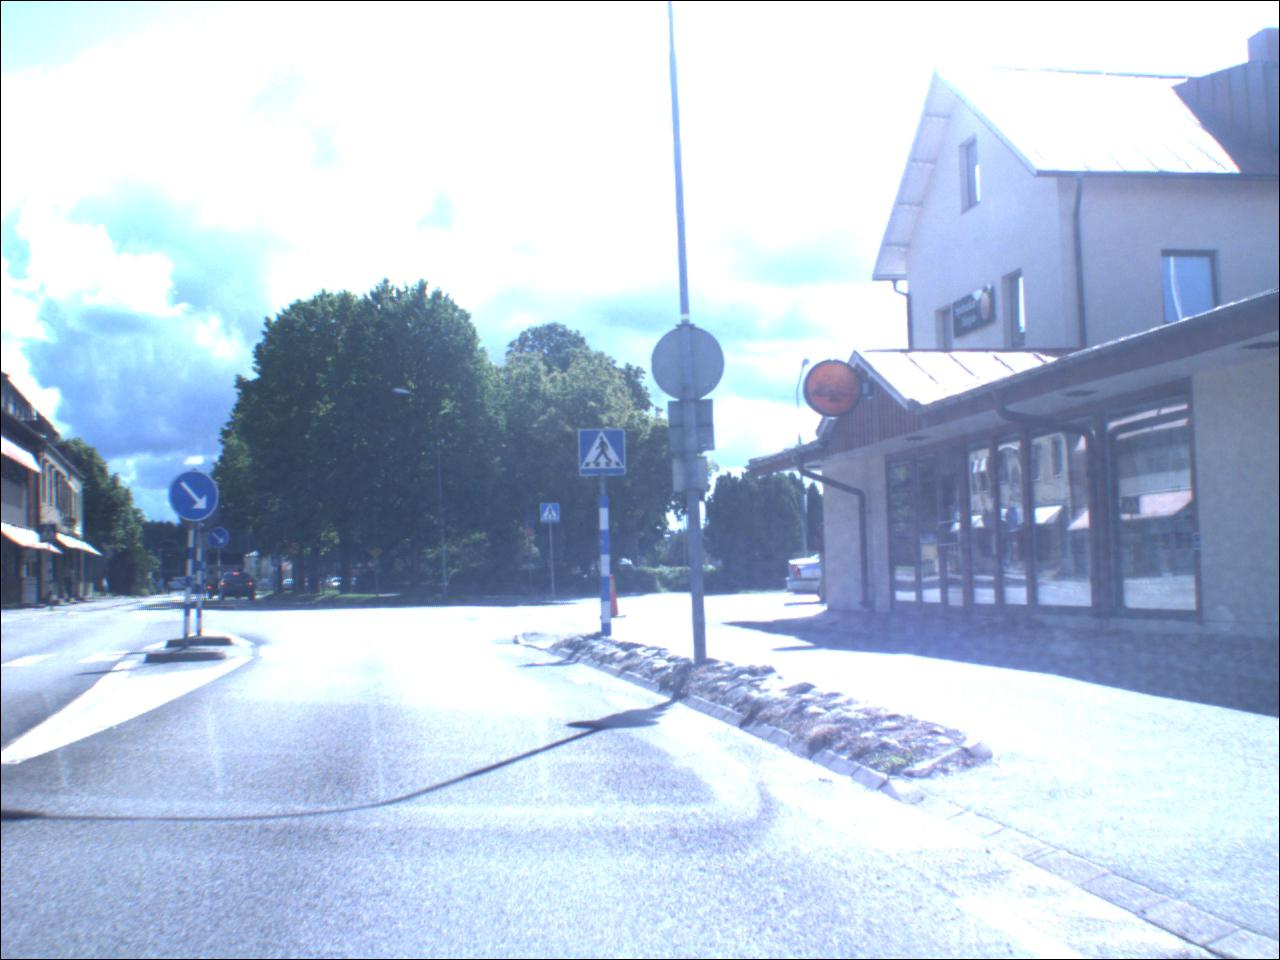50_SIGN: (291, 542, 304, 557)
PASS_RIGHT_SIDE: (170, 471, 223, 523), (210, 529, 233, 550)
PEDESTRIAN_CROSSING: (580, 431, 630, 478), (542, 504, 563, 525), (272, 557, 283, 569)
PRIORITY_ROAD: (369, 545, 387, 561)
